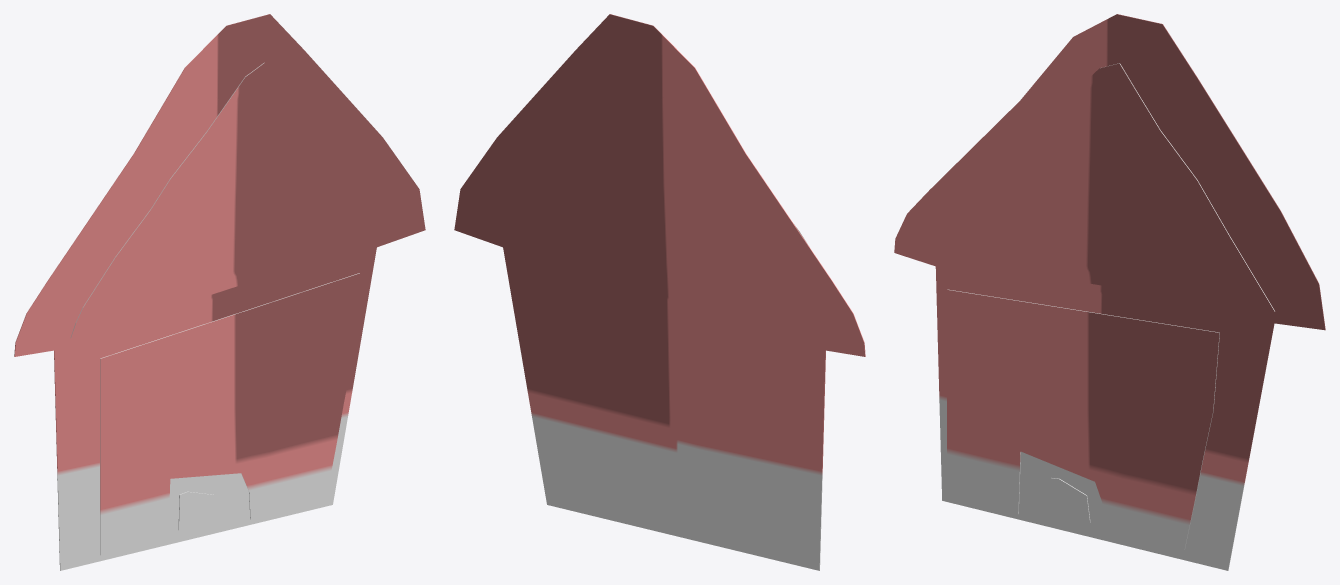
The model's file is village.fbx_village_house_13.fbx.
3 renders of one model, left to right at view 1: azimuth 30°, elevation 25°; view 2: azimuth 150°, elevation 25°; view 3: azimuth 330°, elevation 25°, orthographic. The views are drawn at different scales.
Parts seen in each view (by area): view 1: inside, outline, door; view 2: outline; view 3: inside, outline, door.
Boxes of the visible parts, x1=… form: inside: x1=70, y1=62, x2=412, y2=555; outline: x1=14, y1=14, x2=425, y2=570; door: x1=178, y1=491, x2=217, y2=529; outline: x1=454, y1=14, x2=865, y2=570; inside: x1=916, y1=63, x2=1274, y2=550; outline: x1=894, y1=14, x2=1325, y2=570; door: x1=1049, y1=478, x2=1090, y2=522.
Bounding box in the file's own units: 596 × 701 × 45.28.
